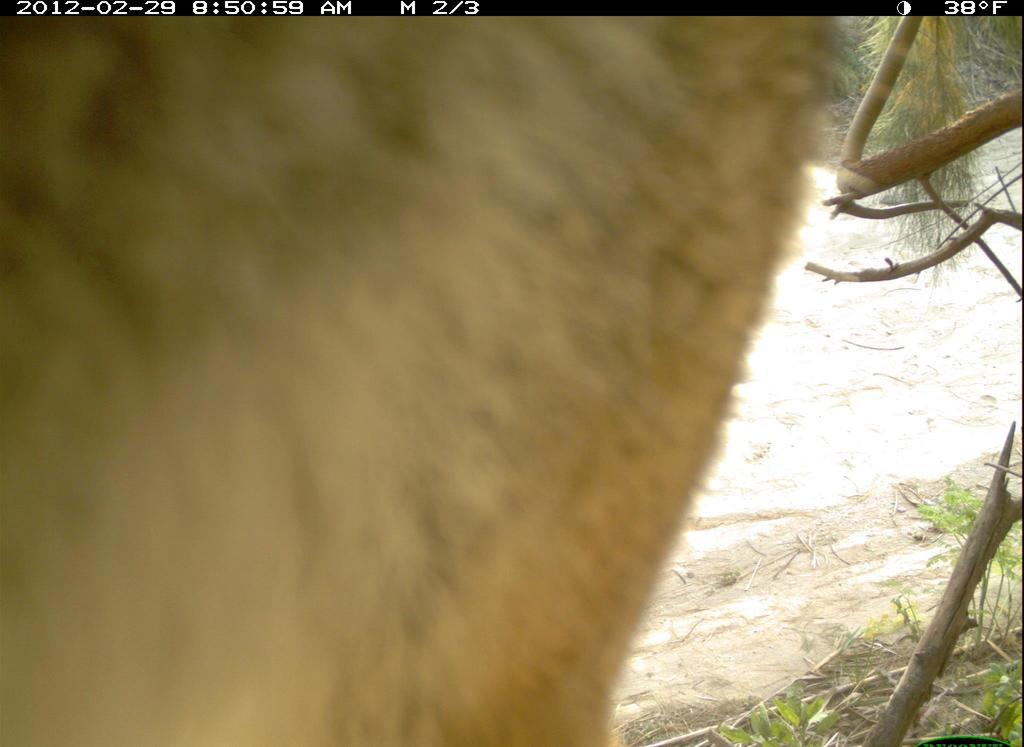coyote: (2, 12, 850, 747)
